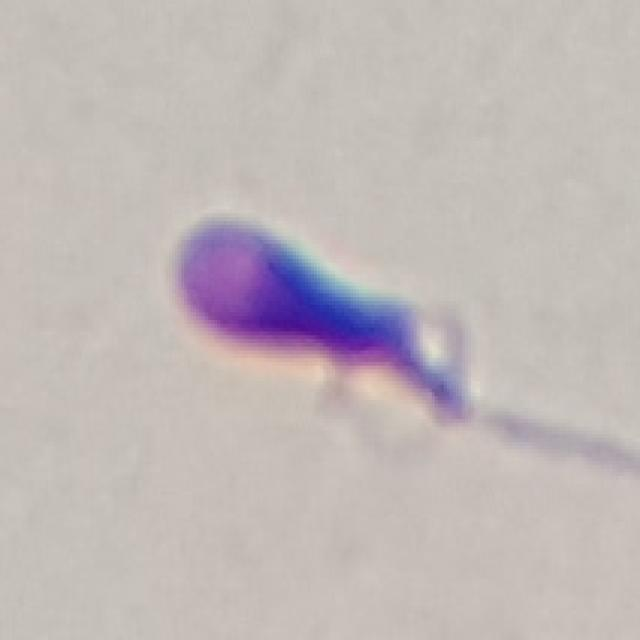abnormal sperm: (146, 184, 640, 493)
